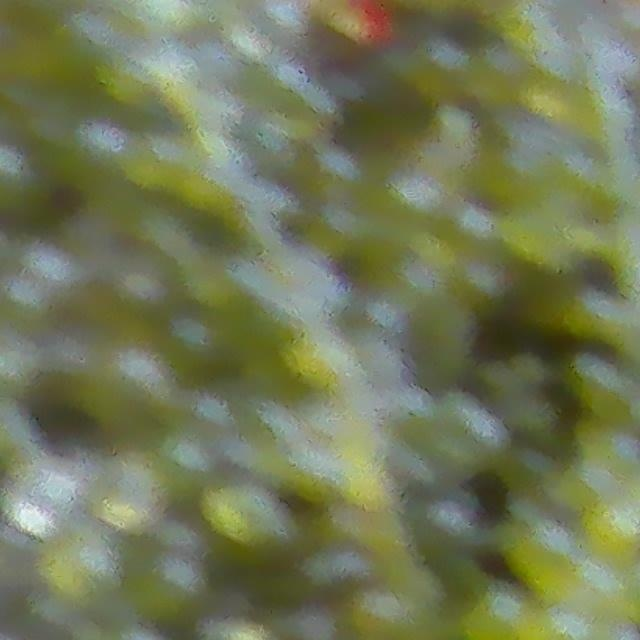SeaGrape: (0, 453, 87, 536), (41, 531, 122, 609)
